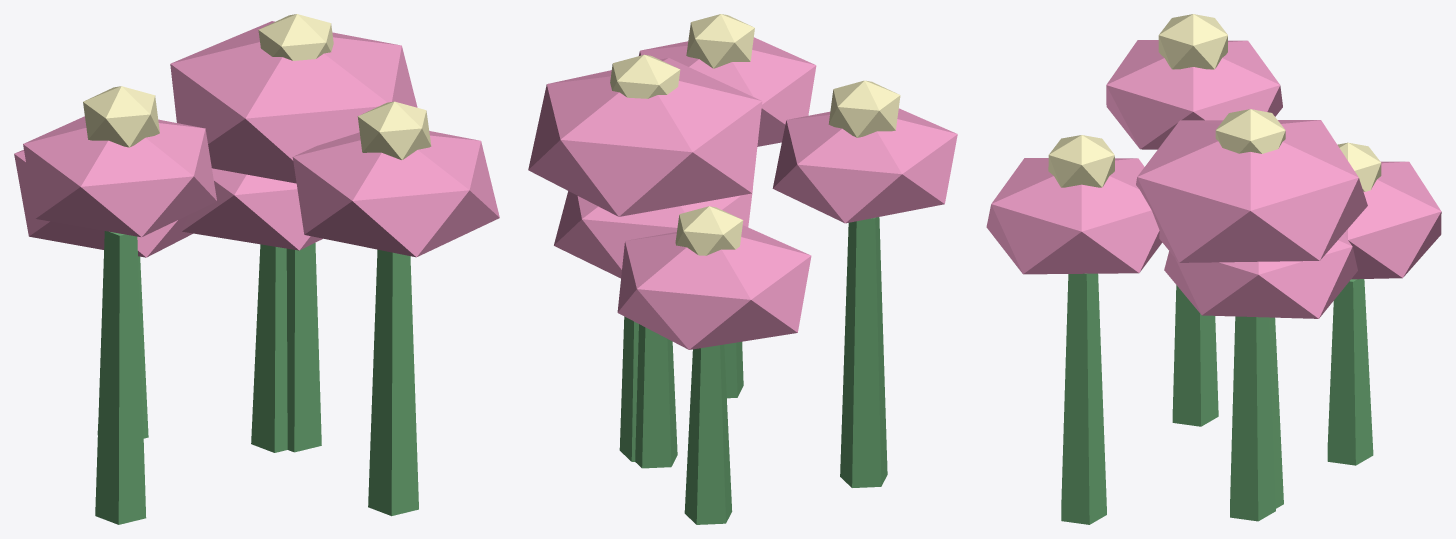
Rendered from Flowers_Pink.glb.
3 views of the same model, side by side, from view 1: azimuth 30°, elevation 25°; view 2: azimuth 150°, elevation 25°; view 3: azimuth 270°, elevation 25° (orthographic). The views are drawn at different scales.
Visible parts, largest first — view 1: Flowers_Pink; view 2: Flowers_Pink; view 3: Flowers_Pink.
Boxes of the visible parts, x1,y1,x2,y2 form: Flowers_Pink: (14, 14, 499, 524); Flowers_Pink: (528, 14, 957, 524); Flowers_Pink: (986, 14, 1441, 524).
Size of the model in its own units: 0.3739 by 0.385 by 0.3944.
